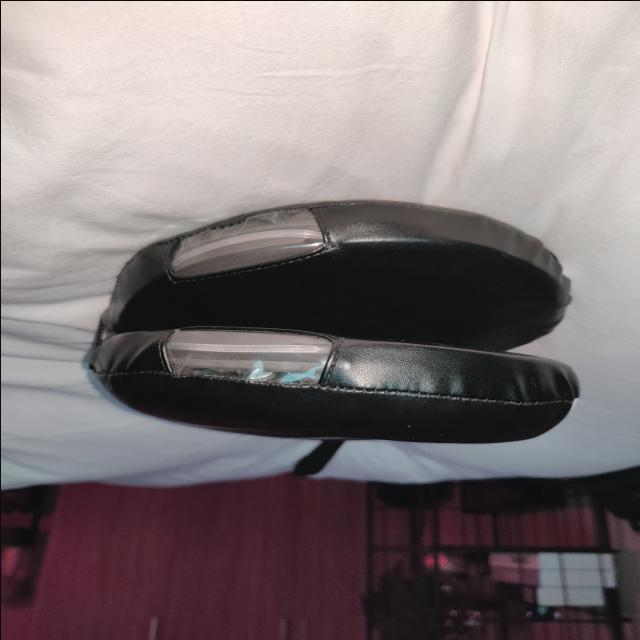paddle: (80, 193, 586, 453)
